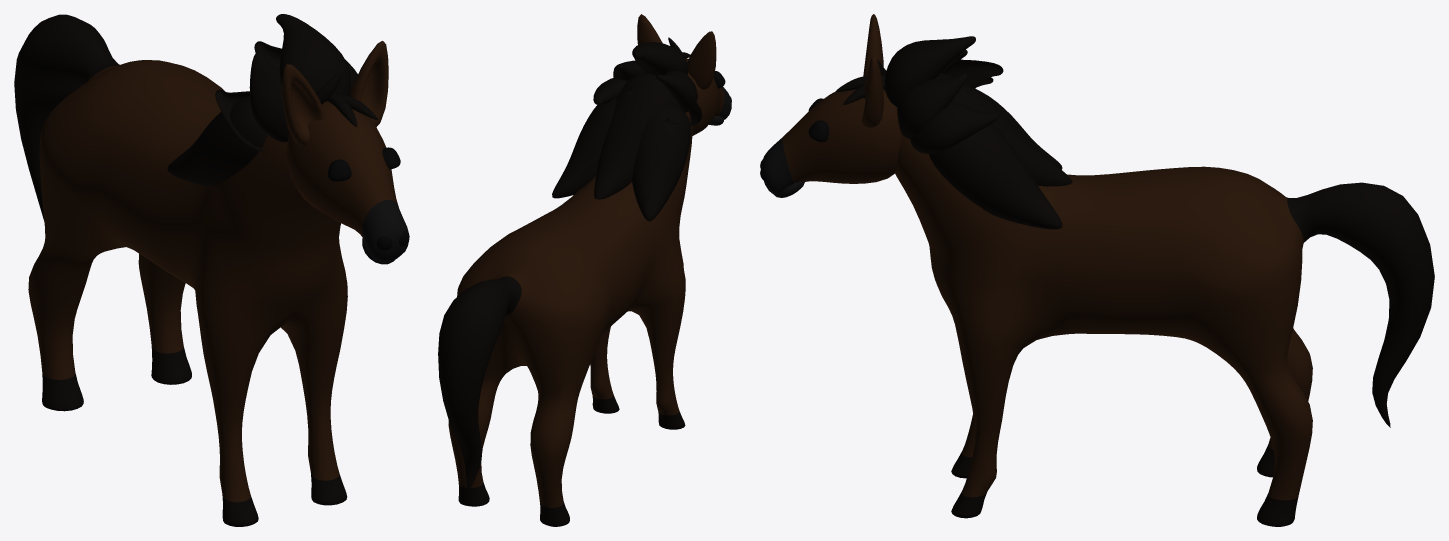
Rendered from Horse.obj.
3 views of the same model, side by side, from view 1: azimuth 30°, elevation 25°; view 2: azimuth 150°, elevation 25°; view 3: azimuth 270°, elevation 25° (orthographic). The views are drawn at different scales.
Parts seen in each view (by area): view 1: Horse_Cube.002, Eyes_Horse_Cube.006; view 2: Horse_Cube.002; view 3: Horse_Cube.002.
Boxes of the visible parts, box(x1,y1,x2,y2) form: Horse_Cube.002: box(14, 14, 409, 526); Eyes_Horse_Cube.006: box(328, 147, 400, 181); Horse_Cube.002: box(438, 14, 731, 526); Horse_Cube.002: box(760, 14, 1434, 526).
Bounding box in the file's own units: 0.6873 × 1.82 × 2.43.
